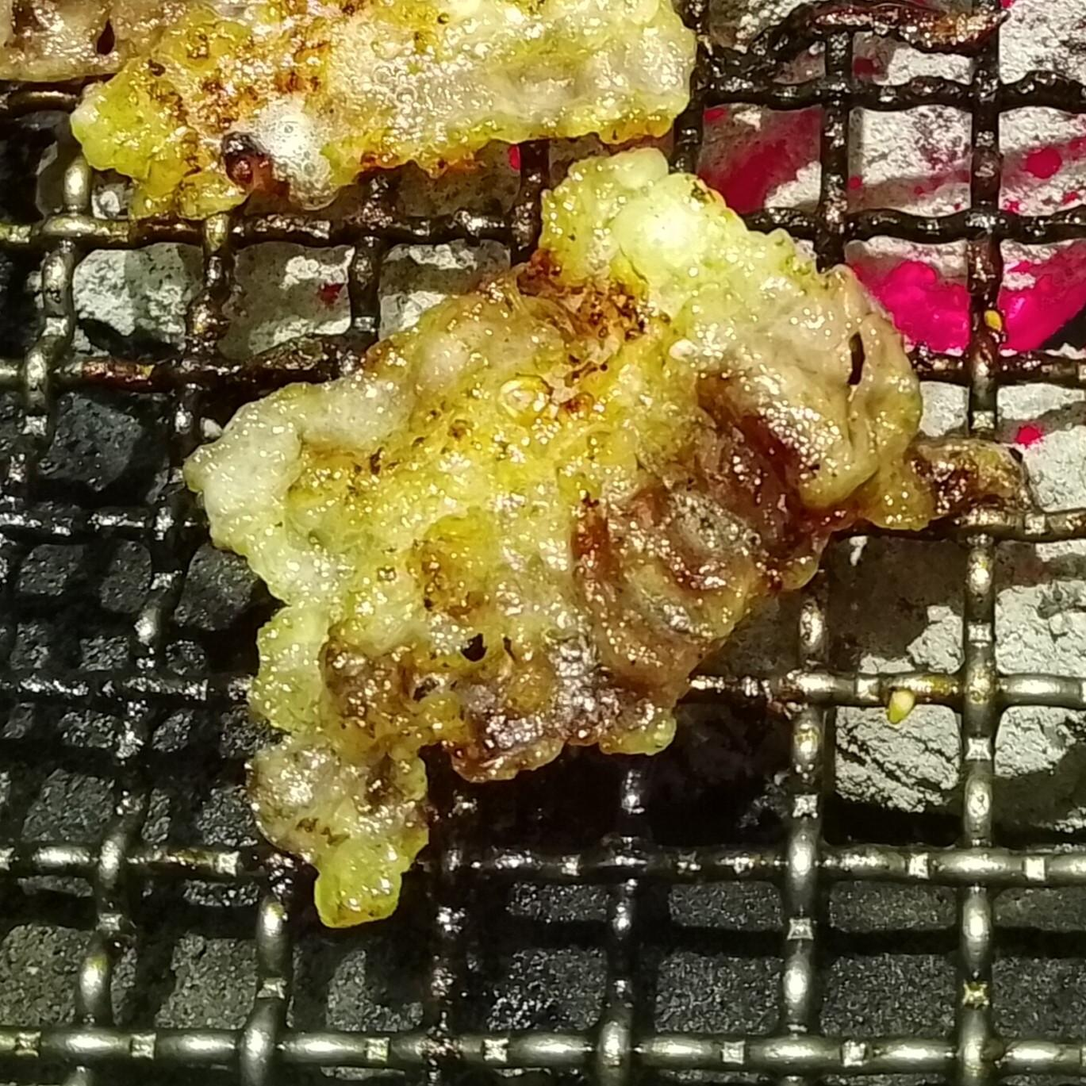Well-Cooked: (186, 148, 951, 930), (0, 0, 708, 221)
